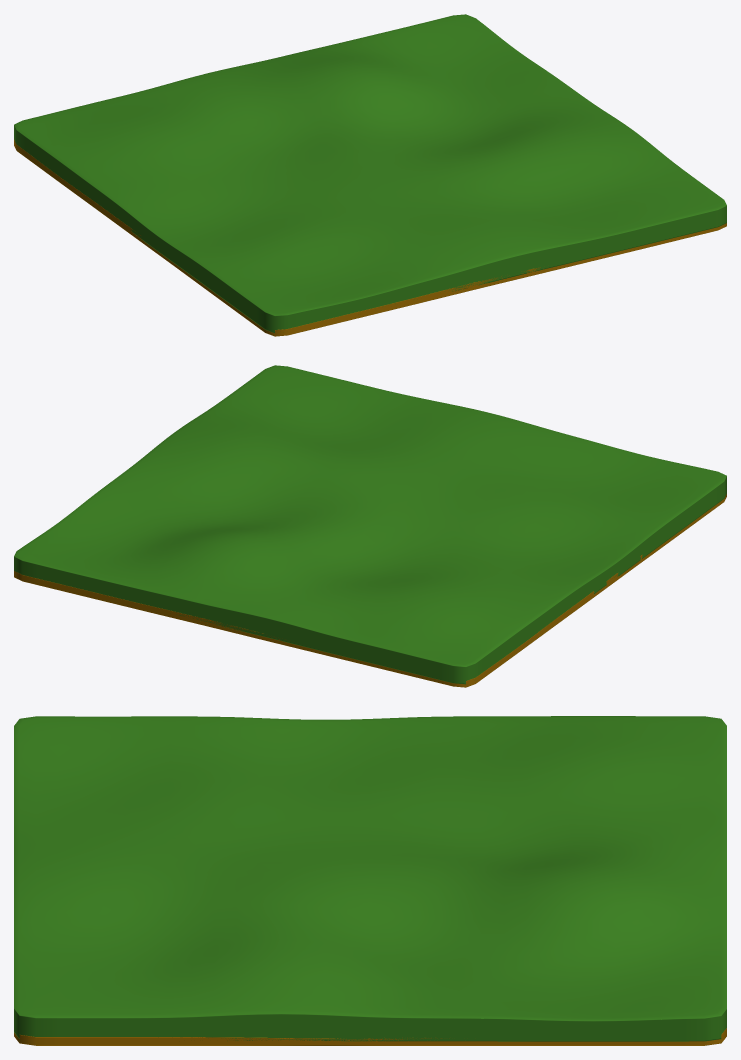
Rendered from ground.glb.
The picture shows the model from 3 angles, top to bottom: view 1: azimuth 30°, elevation 25°; view 2: azimuth 150°, elevation 25°; view 3: azimuth 270°, elevation 25°; orthographic projection. The views are drawn at different scales.
Visible parts, largest first — view 1: pasted__pasted__pasted__pCube1_pasted__pasted__pasted__phong (×2); view 2: pasted__pasted__pasted__pCube1_pasted__pasted__pasted__phong (×2); view 3: pasted__pasted__pasted__pCube1_pasted__pasted__pasted__phong (×2).
Part boxes in pixels (box(x1,y1,x2,y2)): pasted__pasted__pasted__pCube1_pasted__pasted__pasted__phong (×2): box(14, 14, 726, 336); pasted__pasted__pasted__pCube1_pasted__pasted__pasted__phong (×2): box(14, 365, 726, 687); pasted__pasted__pasted__pCube1_pasted__pasted__pasted__phong (×2): box(14, 716, 726, 1045).
Size of the model in its own units: 10 by 0.7935 by 10.
